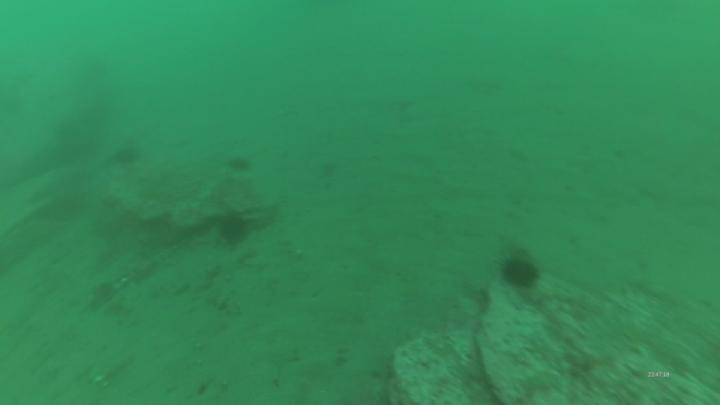echinus: (501, 253, 542, 294), (217, 214, 250, 250), (225, 154, 259, 177), (111, 147, 144, 166)
